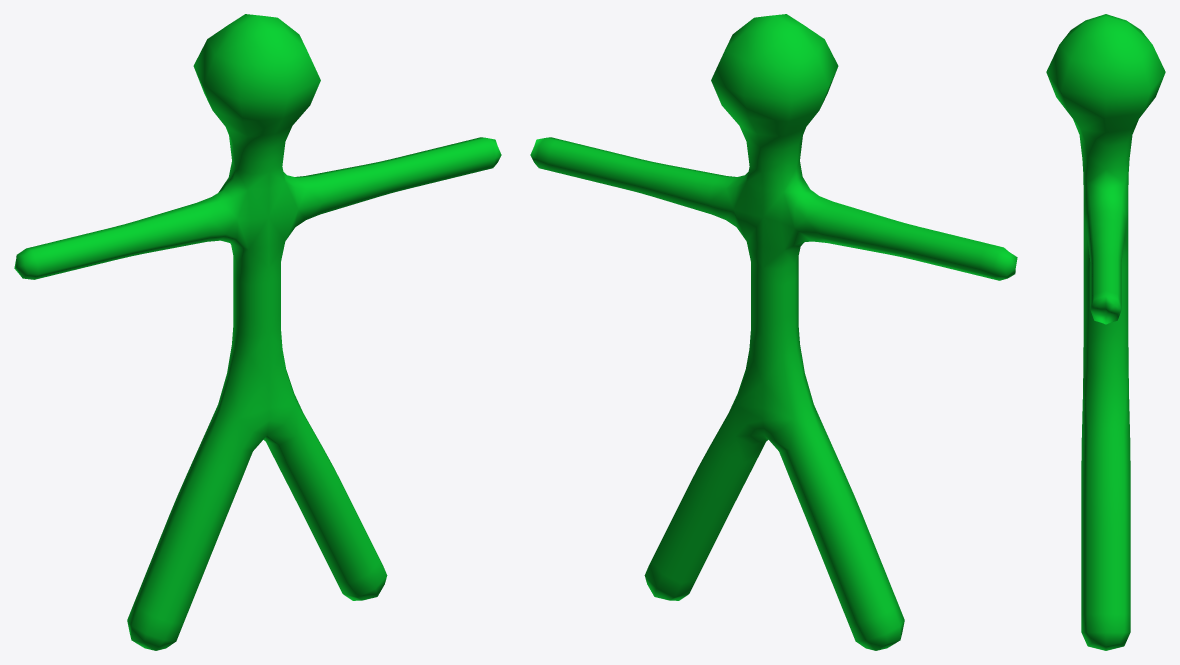
The model's file is PlayerModel.obj.
3 renders of one model, left to right at view 1: azimuth 30°, elevation 25°; view 2: azimuth 150°, elevation 25°; view 3: azimuth 270°, elevation 25°, orthographic. The views are drawn at different scales.
Parts seen in each view (by area): view 1: Cube; view 2: Cube; view 3: Cube.
Part boxes in pixels (bbox=[...]): Cube: bbox=[14, 14, 501, 650]; Cube: bbox=[530, 14, 1017, 650]; Cube: bbox=[1046, 14, 1165, 650].
Size of the model in its own units: 6 by 7.24 by 1.34.
